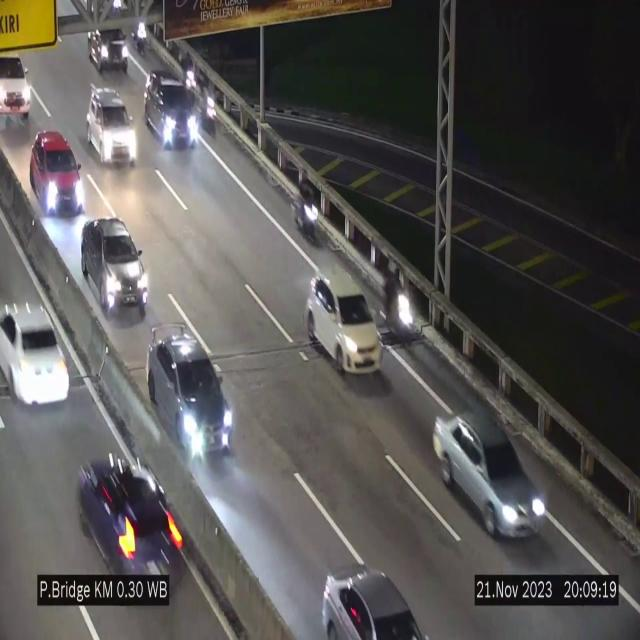Car: (73, 438, 193, 600), (432, 409, 554, 538), (138, 314, 234, 466), (316, 550, 432, 640), (0, 277, 72, 420), (306, 267, 383, 375), (81, 215, 155, 320), (30, 126, 88, 228), (84, 87, 140, 172), (0, 24, 44, 127), (146, 67, 195, 153), (86, 12, 132, 76)
Motorcycle: (387, 262, 412, 348), (295, 168, 320, 253), (198, 74, 218, 138), (133, 7, 150, 61), (182, 51, 196, 98)
